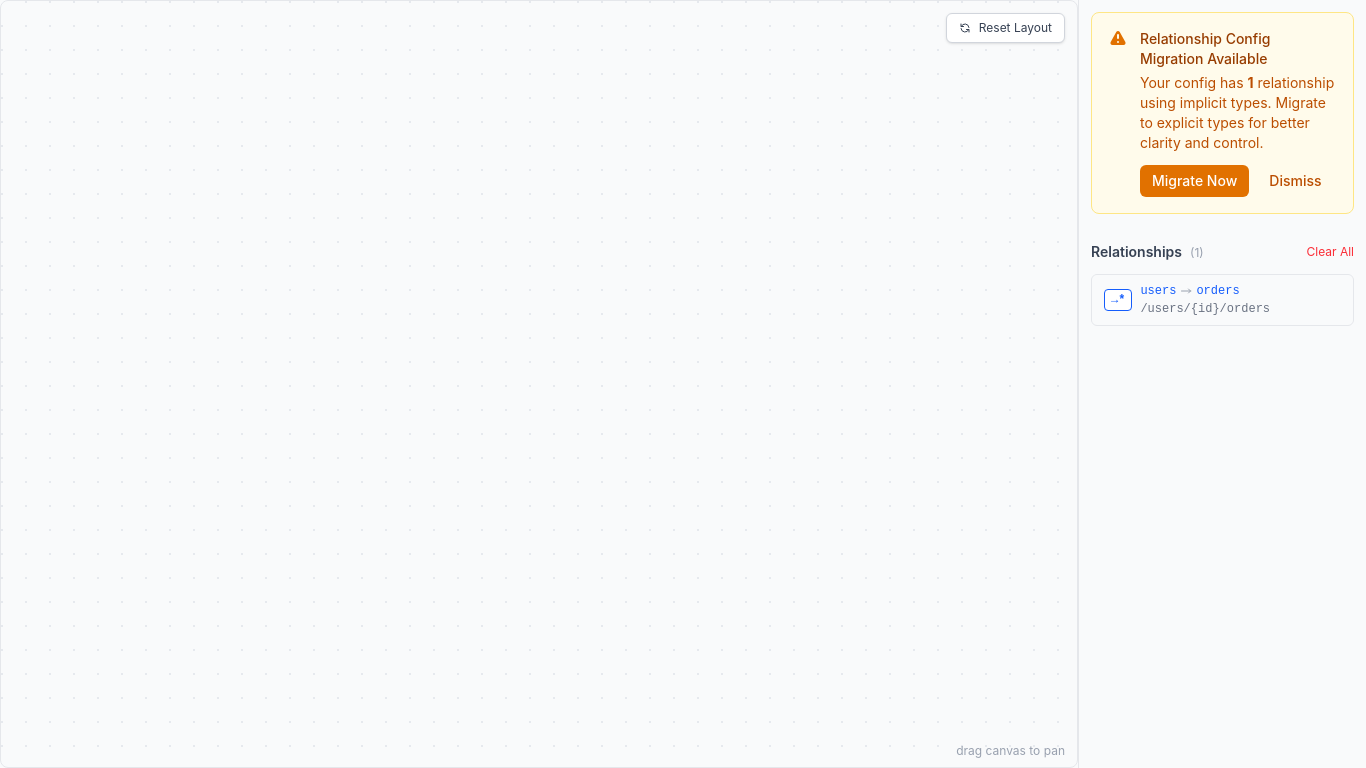
Test: Migration functionality › hides banner after dismissal
The image size is (1366, 768).
Expected: the message with test id "migration-banner" is shown, top-left (1091, 12), bottom-right (1354, 214)
Click the button with test id "migration-dismiss-button": (1295, 181) top-left (1257, 165), bottom-right (1334, 197)
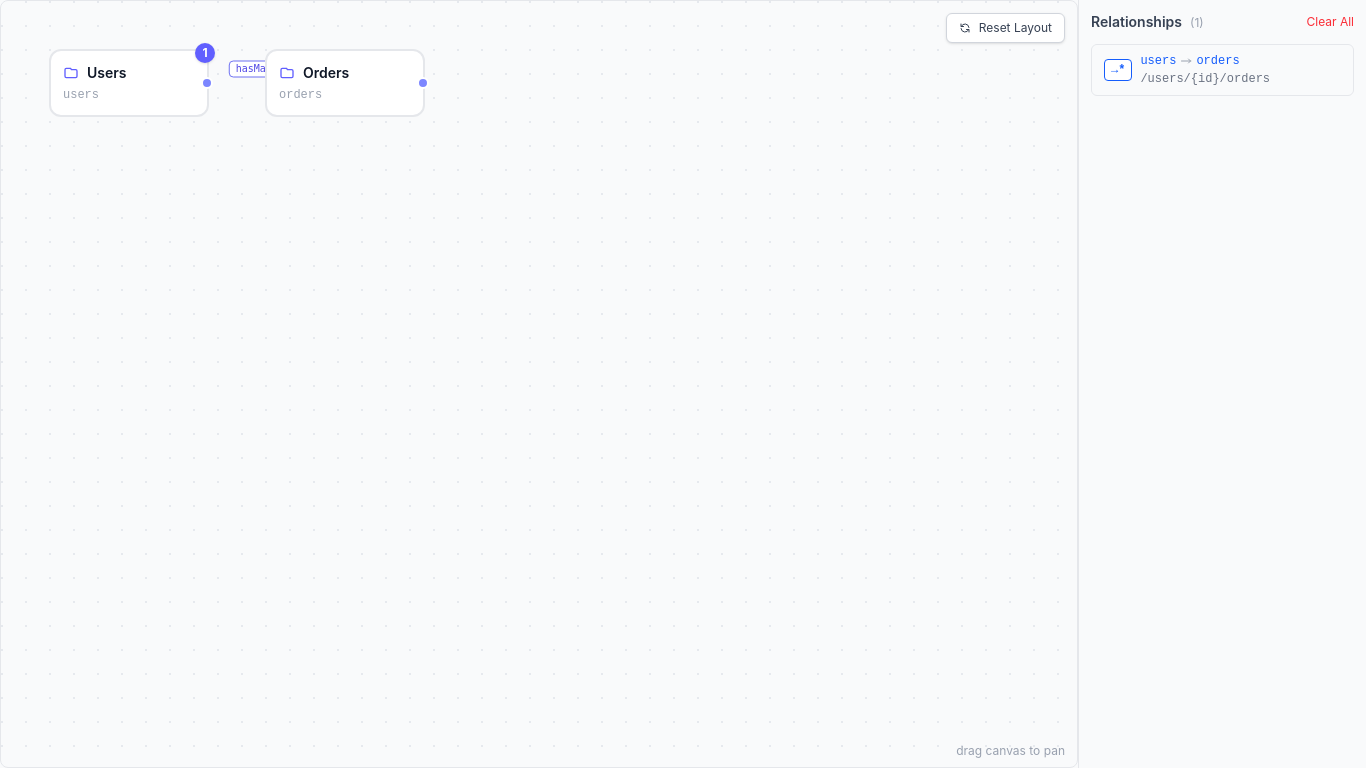
Now the message with test id "migration-banner" is gone
